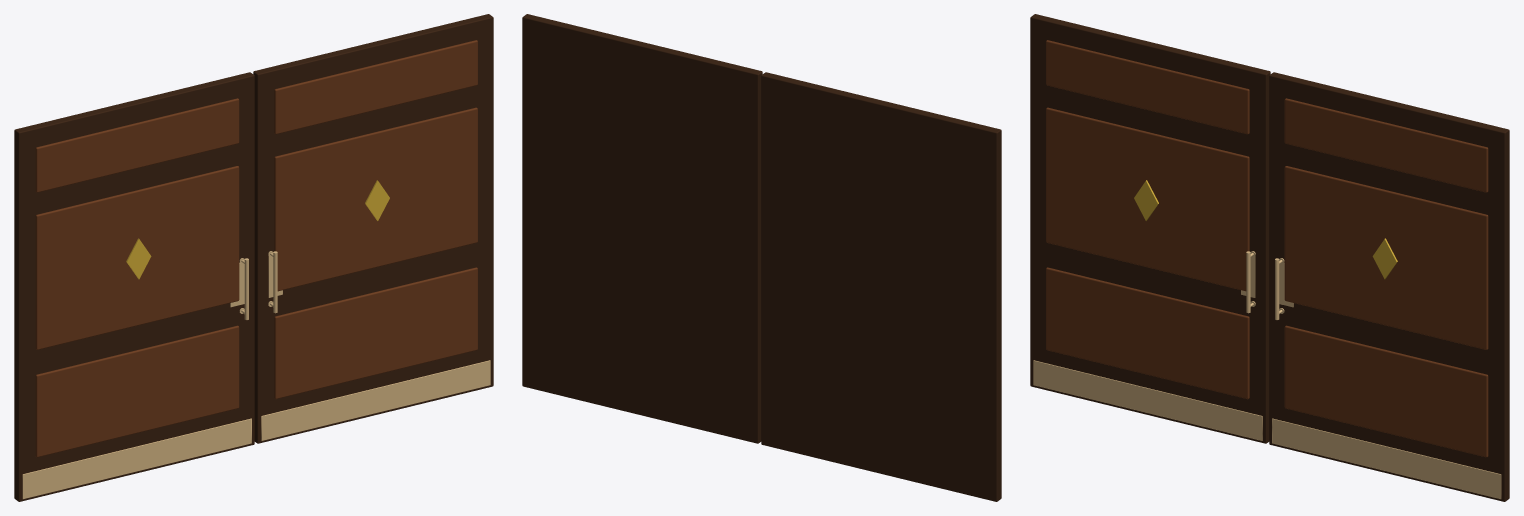
The model's file is door_leaves_40.glb.
3 views of the same model, side by side, from view 1: azimuth 30°, elevation 25°; view 2: azimuth 150°, elevation 25°; view 3: azimuth 330°, elevation 25° (orthographic).
Visible parts, largest first — view 1: doorleaves40_wood, doorleaves40_woodDark, doorleaves40_brass, doorleaves40_gold; view 2: doorleaves40_woodDark; view 3: doorleaves40_wood, doorleaves40_woodDark, doorleaves40_brass, doorleaves40_gold.
Boxes of the visible parts, bbox=[...] form: doorleaves40_wood: bbox=[35, 40, 477, 457]; doorleaves40_woodDark: bbox=[14, 14, 493, 501]; doorleaves40_brass: bbox=[22, 251, 490, 499]; doorleaves40_gold: bbox=[126, 180, 389, 279]; doorleaves40_woodDark: bbox=[522, 14, 1001, 501]; doorleaves40_wood: bbox=[1046, 40, 1488, 457]; doorleaves40_woodDark: bbox=[1030, 14, 1509, 501]; doorleaves40_brass: bbox=[1033, 251, 1501, 499]; doorleaves40_gold: bbox=[1134, 180, 1397, 279].
Size of the model in its own units: 3.98 by 2.96 by 0.156.
